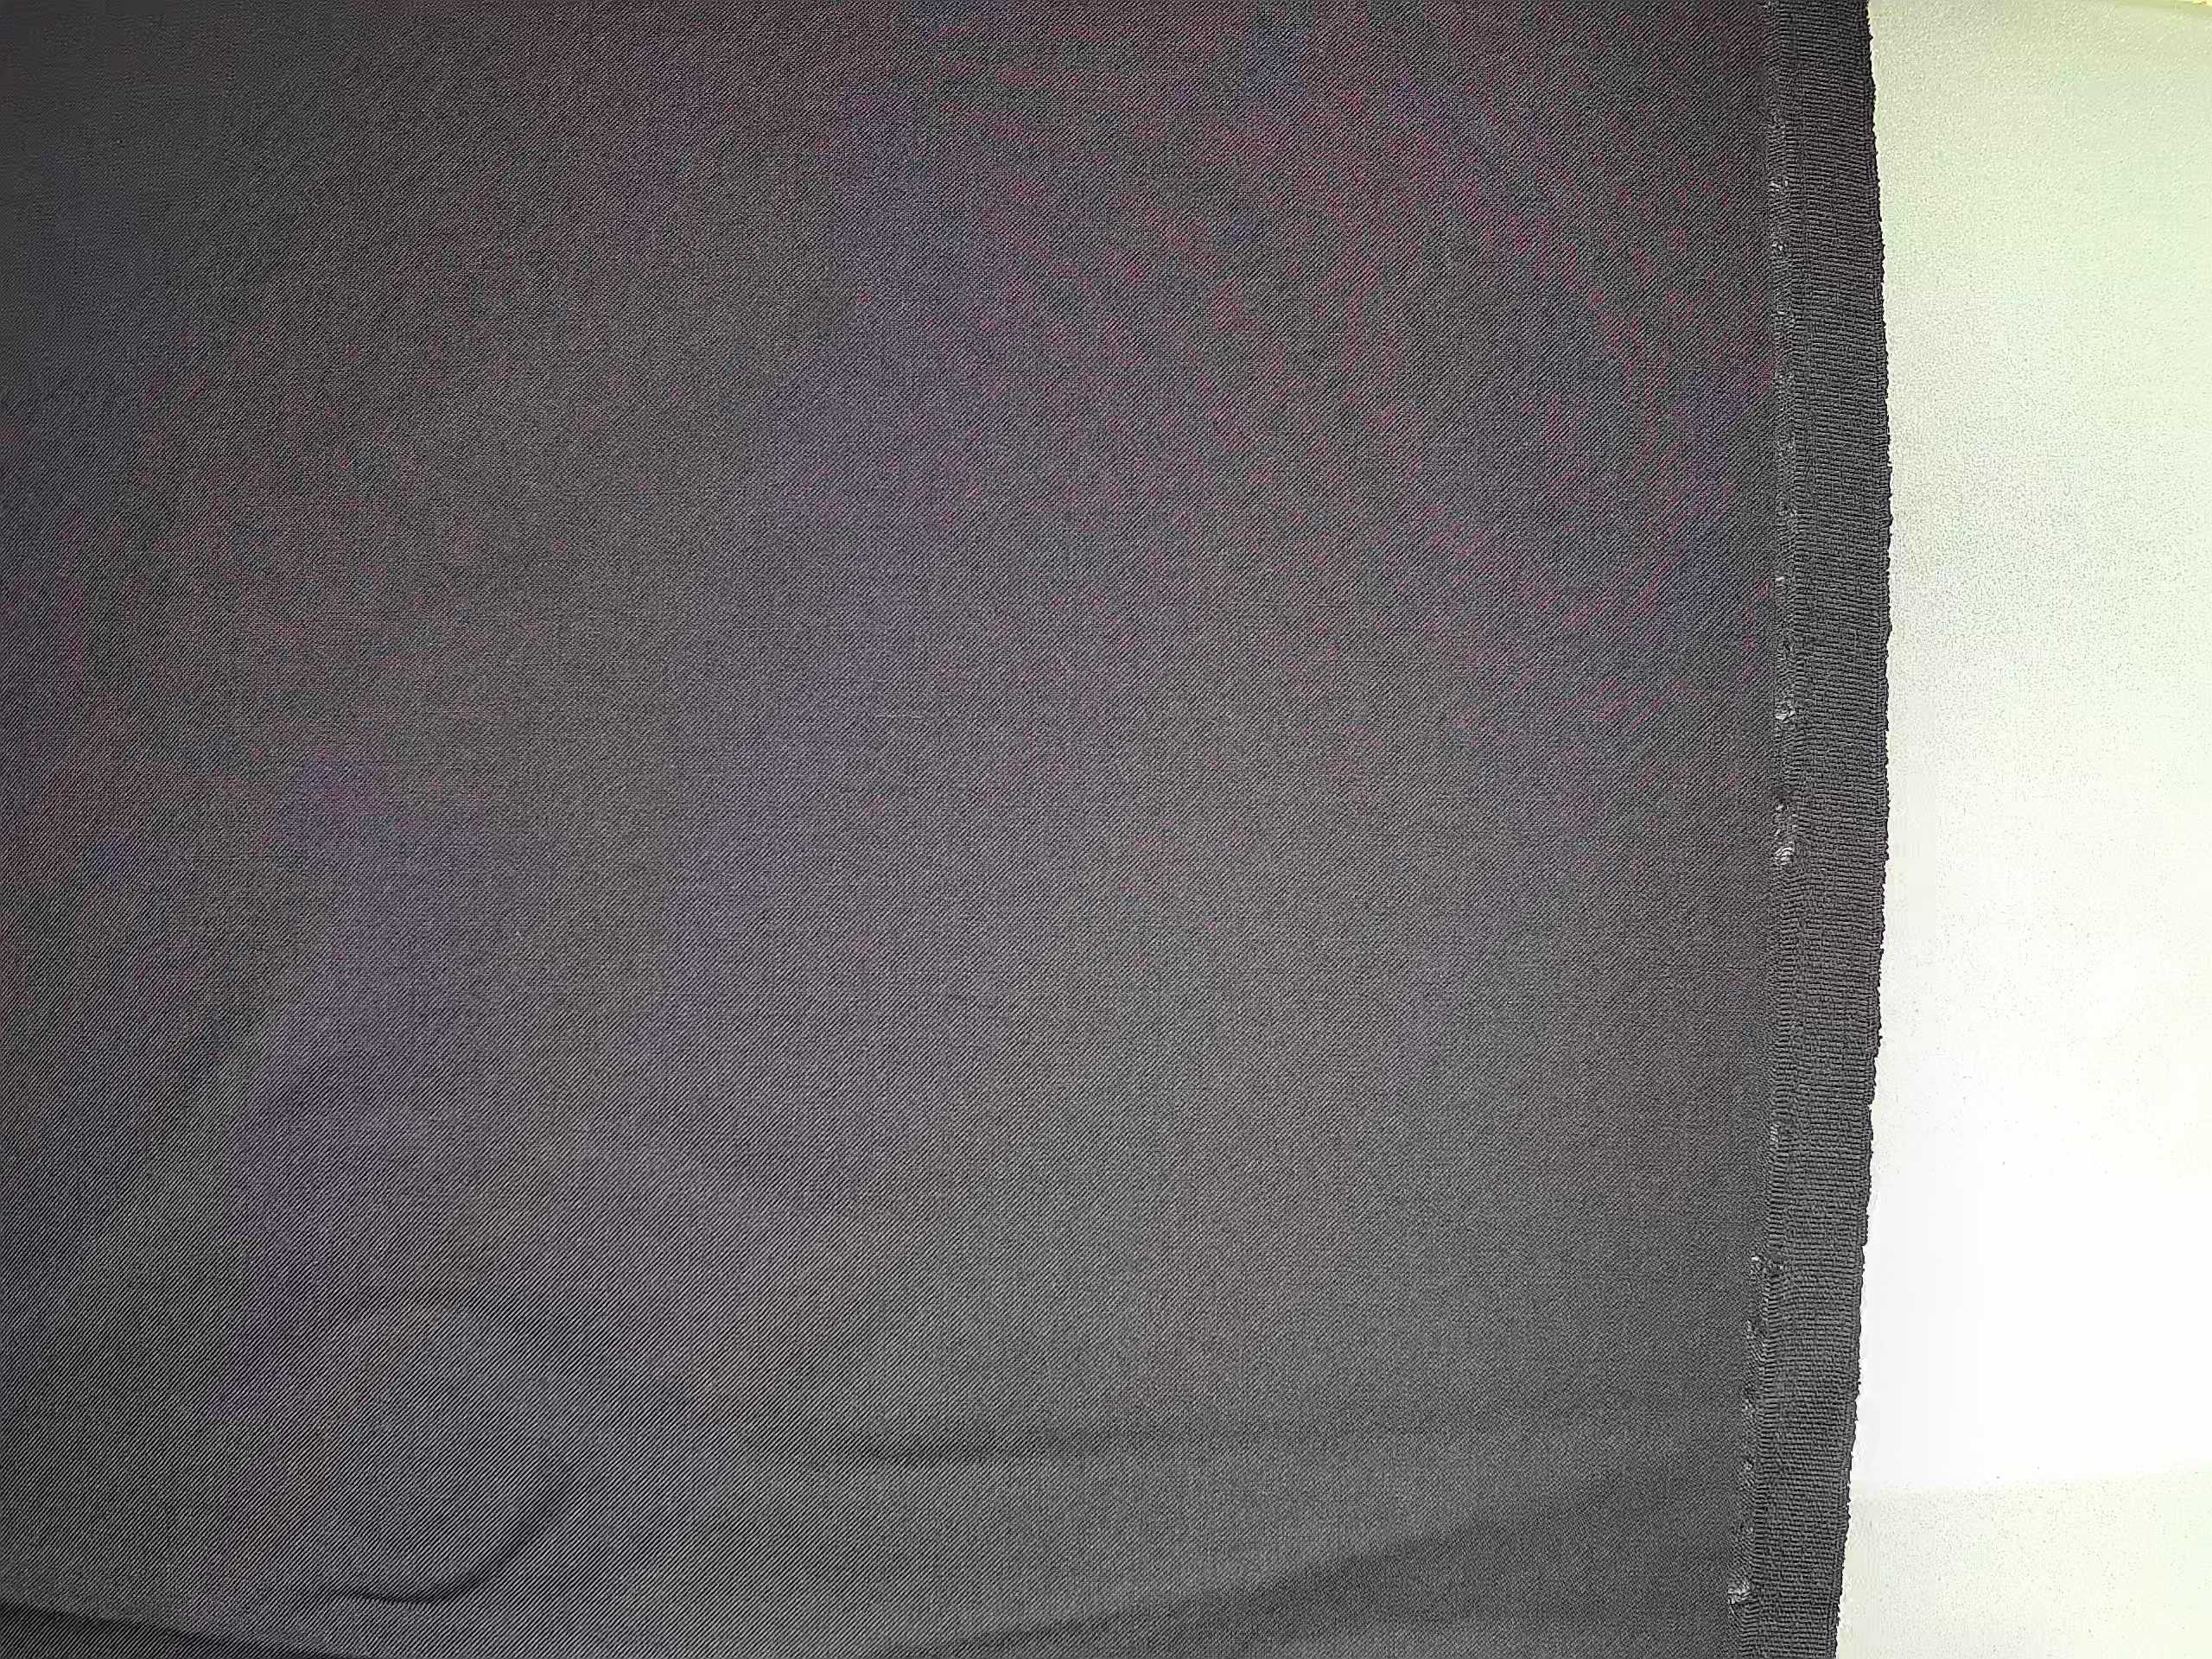puncture-hole: (1717, 12, 1813, 1624)
